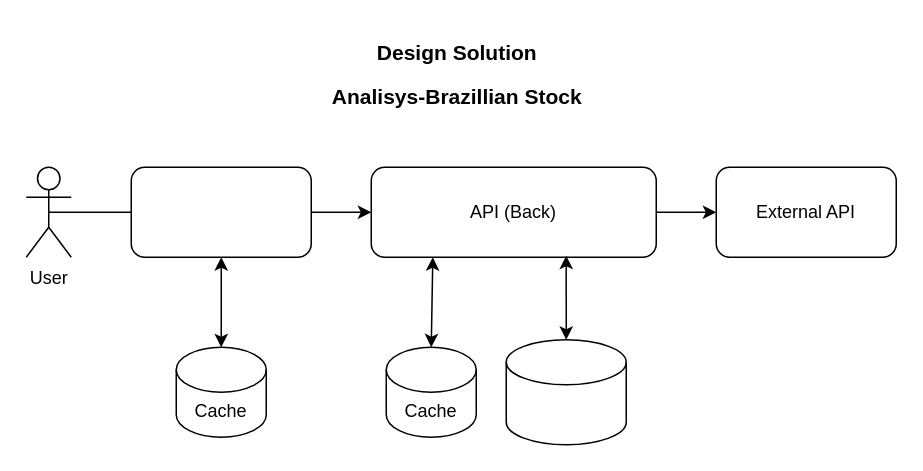
This 923x471 diagram has some shape labels left out. Each missing label, with the box of its shape:
App Web (Front): (130, 166, 311, 257)
MongoDB: (505, 338, 626, 445)
